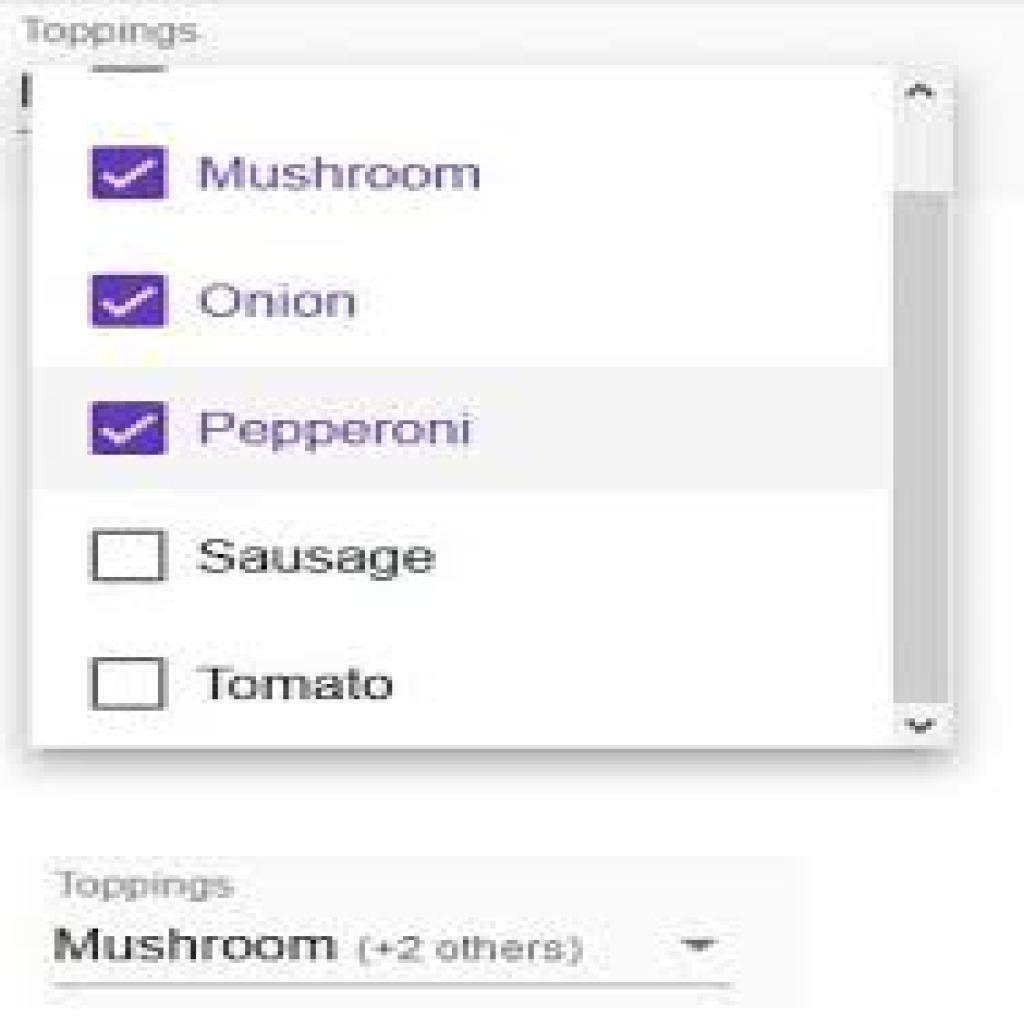checkbox: (87, 401, 172, 459), (91, 145, 173, 205), (90, 273, 169, 332), (89, 528, 172, 583), (92, 657, 169, 713)
label: (197, 148, 489, 201), (195, 410, 477, 457), (202, 532, 443, 585), (194, 659, 402, 710), (191, 278, 378, 329)
